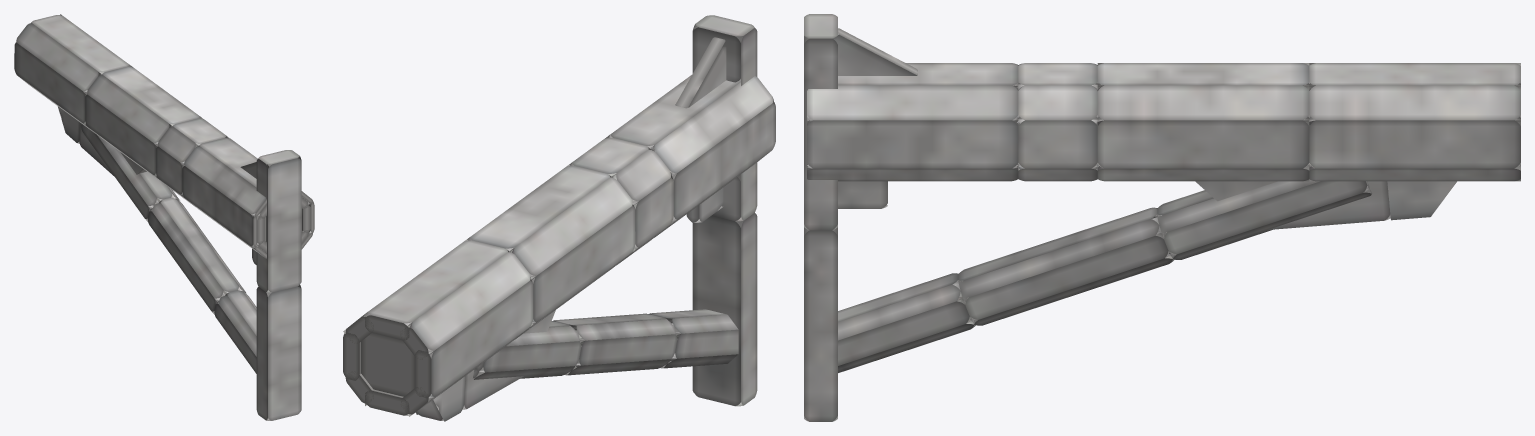
Rendered from overhead_pillar_concrete_truss_b.obj.
3 views of the same model, side by side, from view 1: azimuth 30°, elevation 25°; view 2: azimuth 150°, elevation 25°; view 3: azimuth 270°, elevation 25° (orthographic). The views are drawn at different scales.
Parts seen in each view (by area): view 1: bottom_central; view 2: bottom_central; view 3: bottom_central.
Boxes of the visible parts, x1,y1,x2,y2 form: bottom_central: [14, 14, 314, 420]; bottom_central: [343, 15, 775, 421]; bottom_central: [804, 14, 1520, 421].
Bounding box in the file's own units: 0.5002 × 2 × 3.39.
